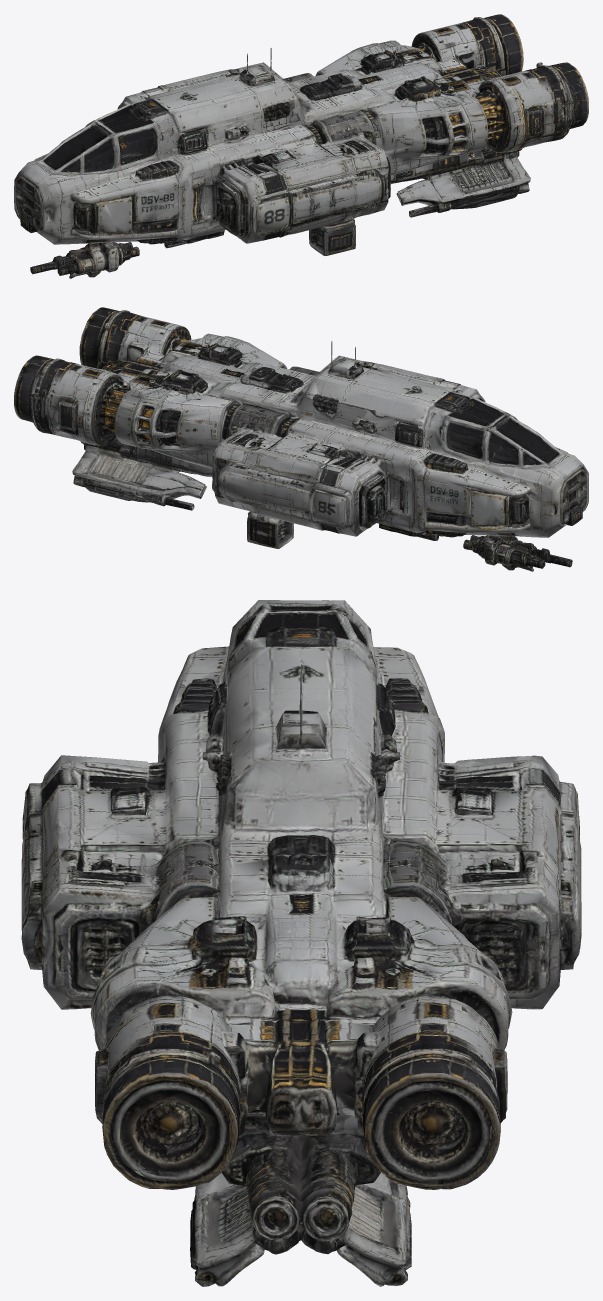
The model's file is ship2.glb.
3 views of the same model, one above another, from view 1: azimuth 30°, elevation 25°; view 2: azimuth 150°, elevation 25°; view 3: azimuth 270°, elevation 25° (orthographic). The views are drawn at different scales.
Size of the model in its own units: 1.9 by 0.6541 by 0.8934.
1 material, 1 textured.
